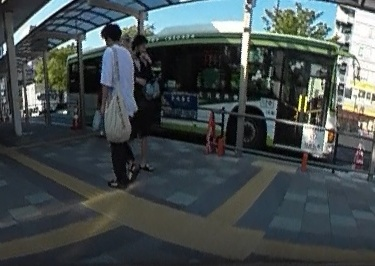person: (96, 21, 139, 187), (131, 34, 155, 167)
